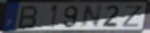1: (50, 4, 60, 30)
2: (101, 4, 120, 28)
9: (63, 5, 80, 29)
B: (17, 5, 40, 30)
N: (79, 4, 104, 29)
Z: (121, 5, 144, 28)
